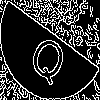Q: (25, 25, 74, 88)
